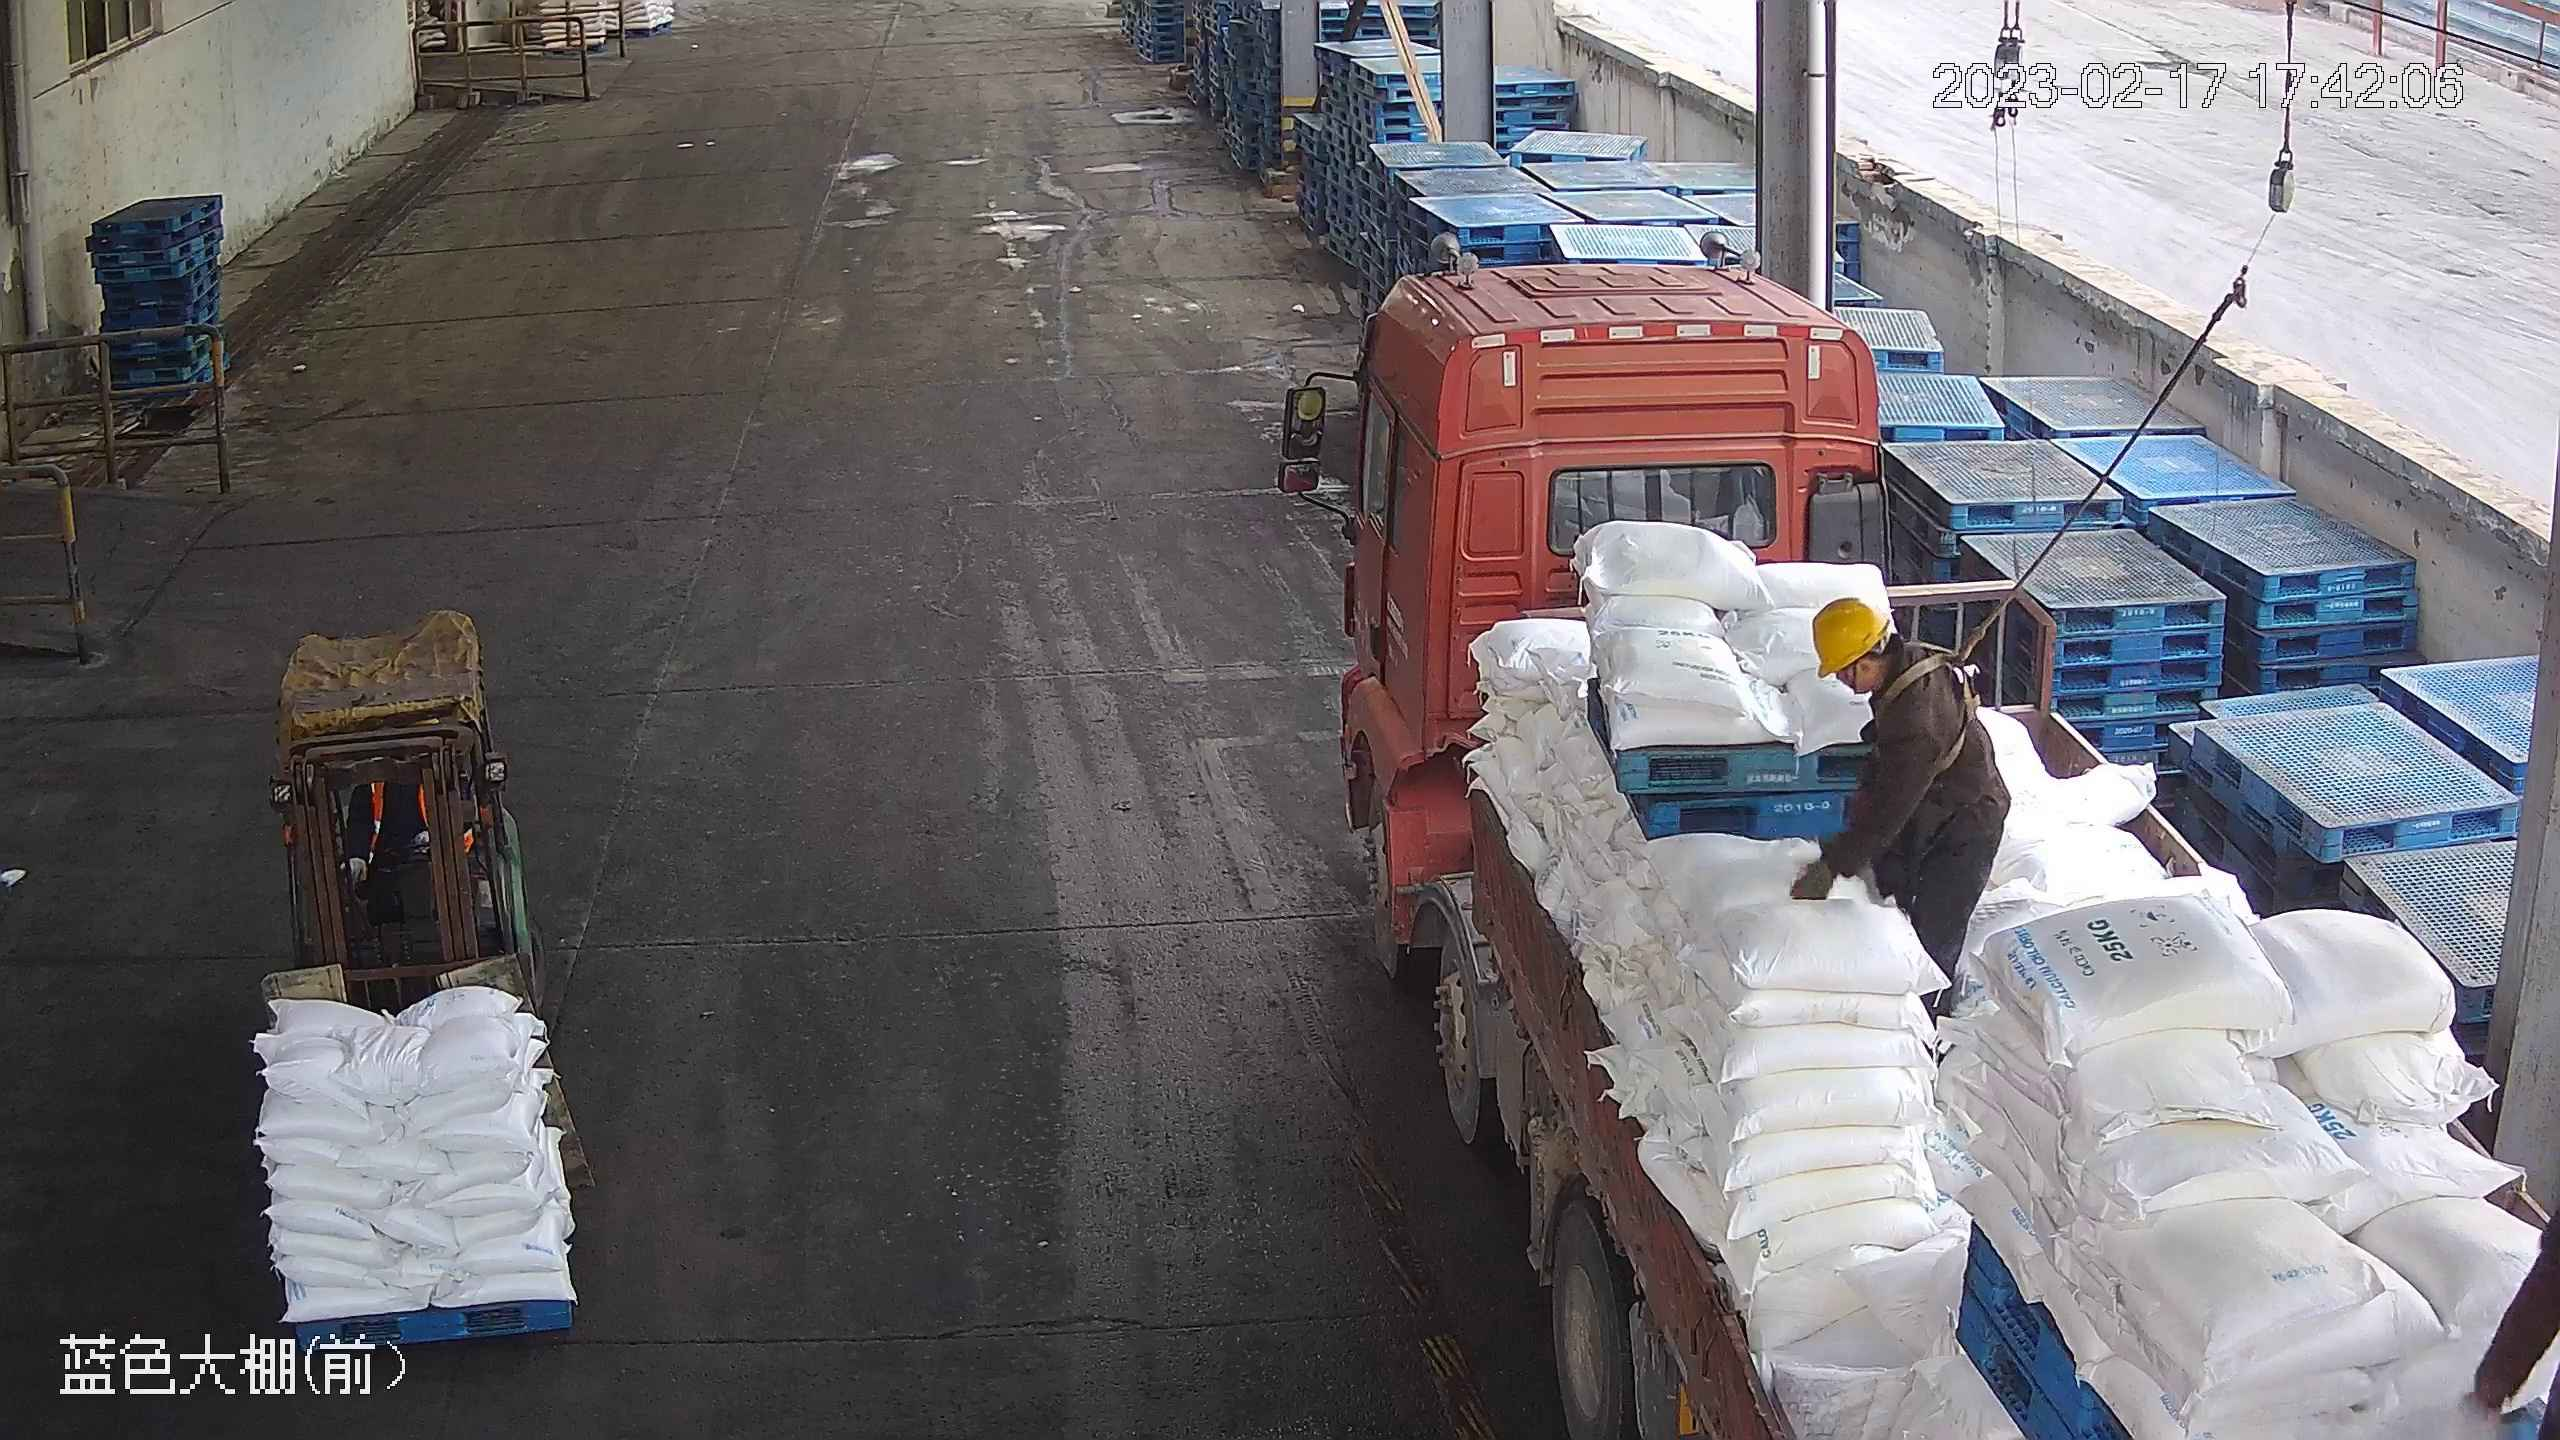belt: (1875, 636, 1992, 774)
head: (1808, 594, 1975, 748)
helmet: (1809, 594, 1890, 679)
people: (1794, 592, 2015, 1025)
truck: (1335, 252, 2560, 1440)
